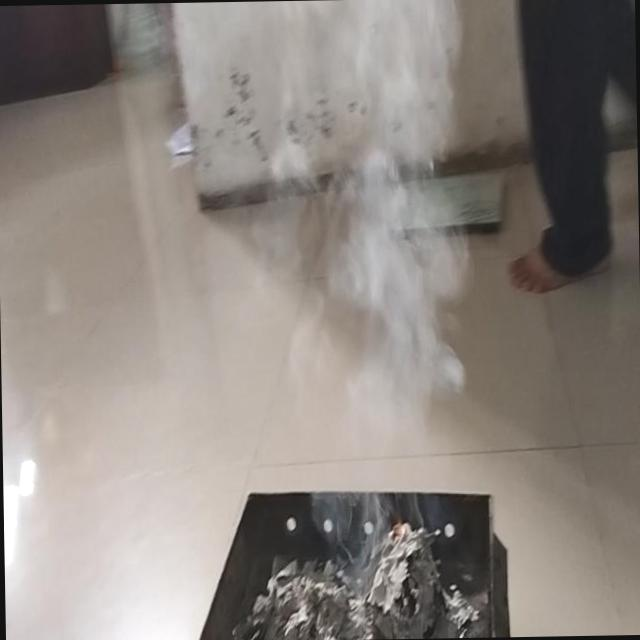smoke: (222, 0, 487, 640)
